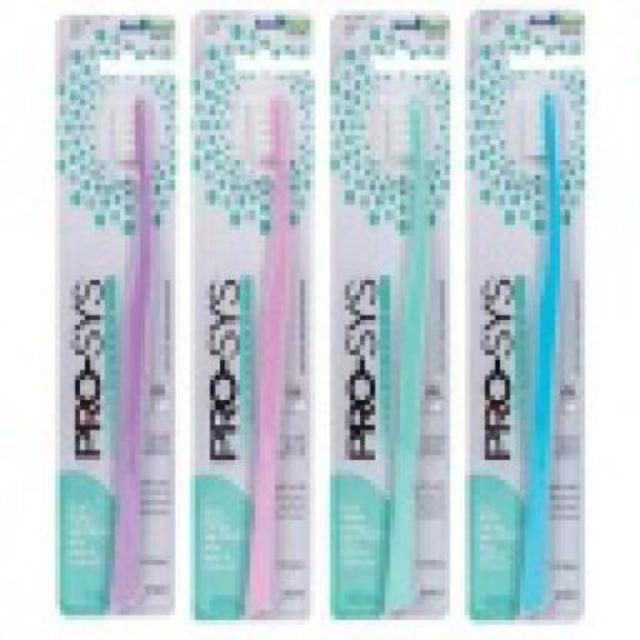toothbrush: (85, 85, 165, 635)
